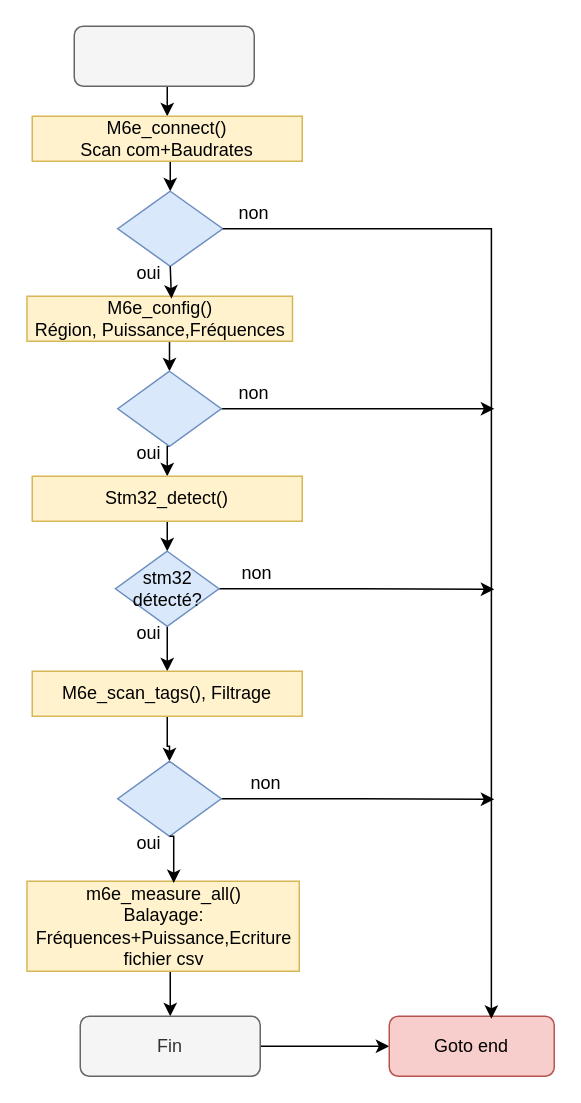
The diagram is 581 pixels wide and 1103 high, and some of its shapes have lost their labels. The shapes that lost their labels are listed below. From the top down, each one's centre as x and y in pixels, then its label:
At point 163,55: "Démarrage".
At point 169,228: "M6e détecté?".
At point 168,408: "config ok?".
At point 168,798: "tag validé?".
